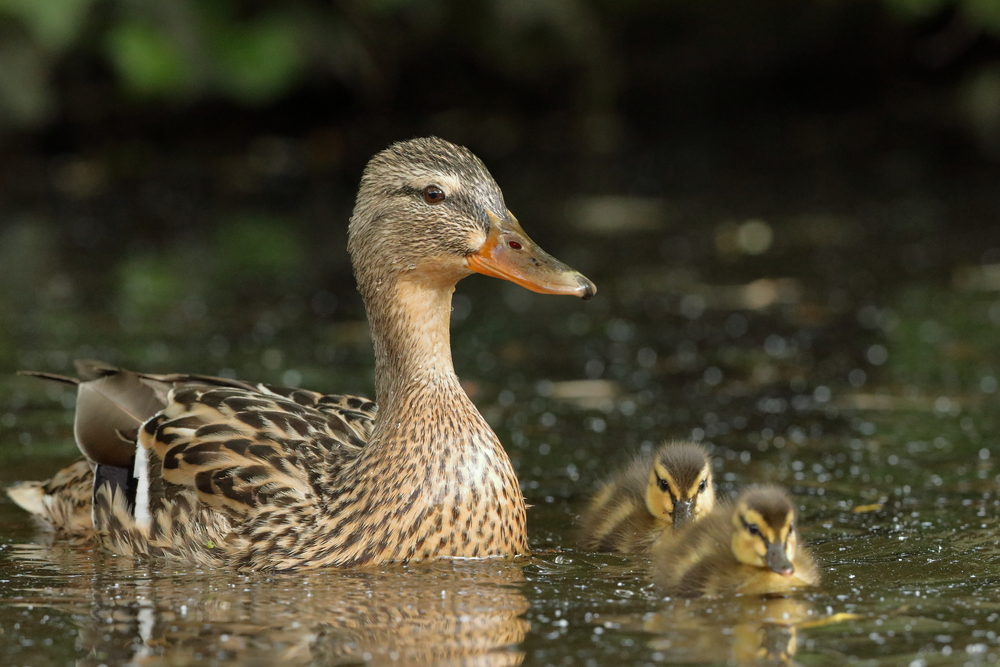bebek: (17, 100, 605, 581), (610, 406, 820, 603)
